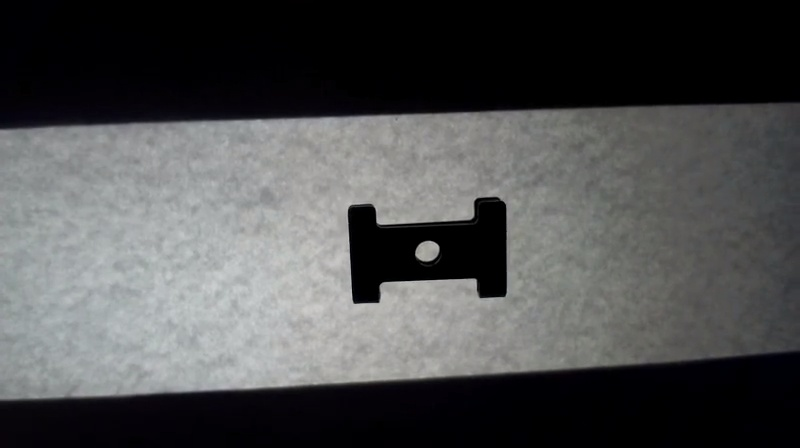O002: (346, 194, 513, 308)
